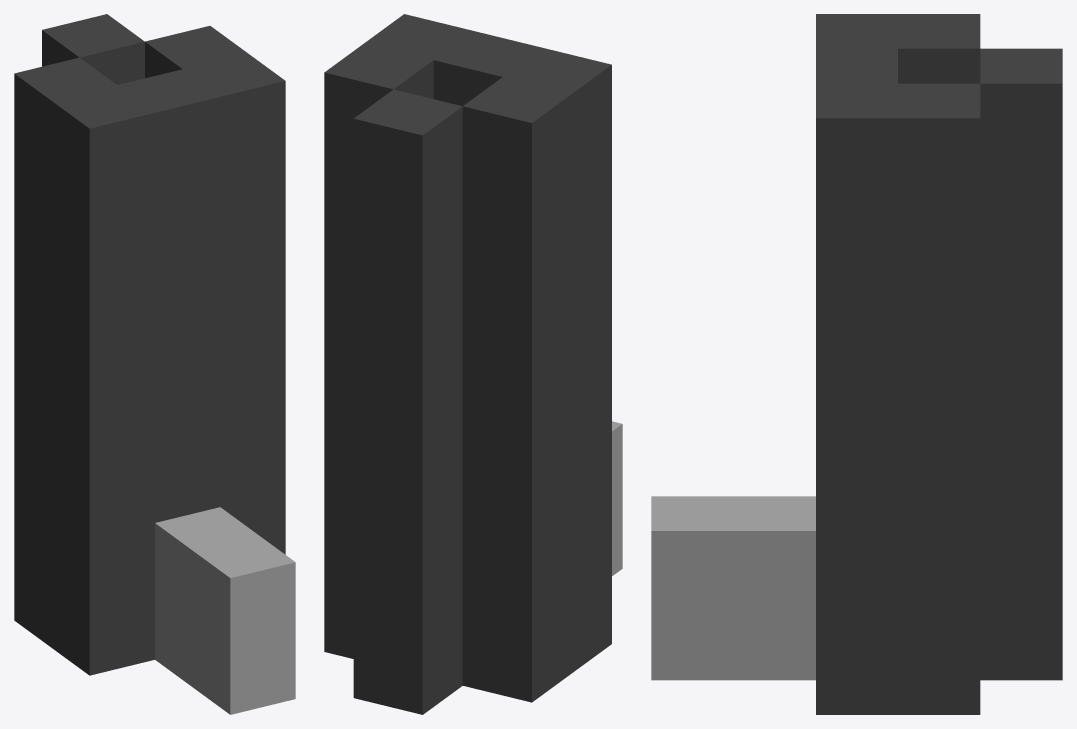
File: Gun.FBX
The picture shows the model from 3 angles, left to right: view 1: azimuth 30°, elevation 25°; view 2: azimuth 150°, elevation 25°; view 3: azimuth 270°, elevation 25°; orthographic projection. The views are drawn at different scales.
Visible parts, largest first — view 1: default; view 2: default; view 3: default.
Boxes of the visible parts, box(x1,y1,x2,y2) form: default: box(14, 14, 295, 714); default: box(324, 14, 622, 714); default: box(651, 14, 1062, 714).
Bounding box in the file's own units: 3 × 8 × 5.
1 material, 1 textured.
